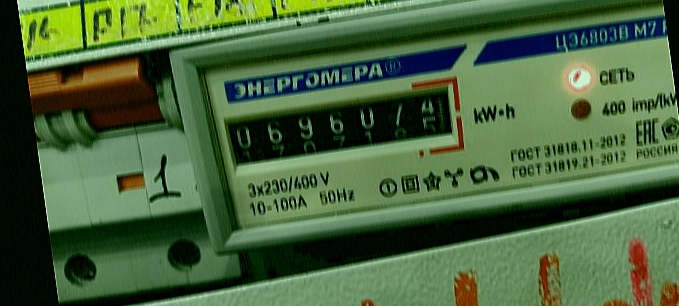0: (234, 121, 256, 148), (359, 101, 378, 129)
4: (420, 92, 437, 115)
5: (423, 114, 440, 134)
6: (328, 105, 348, 134), (265, 116, 286, 143)
7: (390, 98, 409, 126)
9: (297, 112, 317, 140)
screen: (218, 72, 472, 182)
